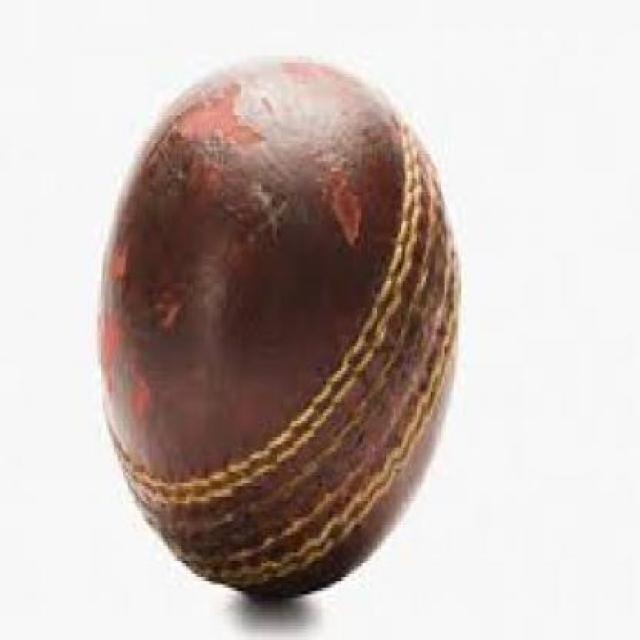ball: (60, 39, 534, 618)
